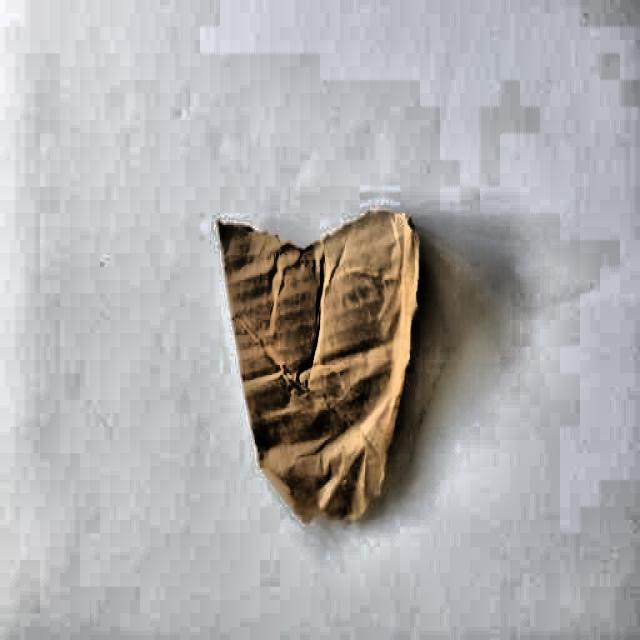cardboard: (212, 211, 423, 518)
